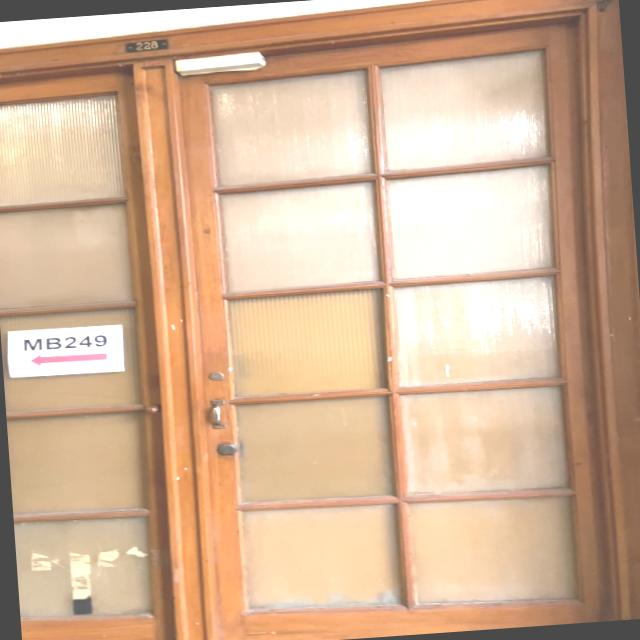room228: (121, 36, 170, 54)
